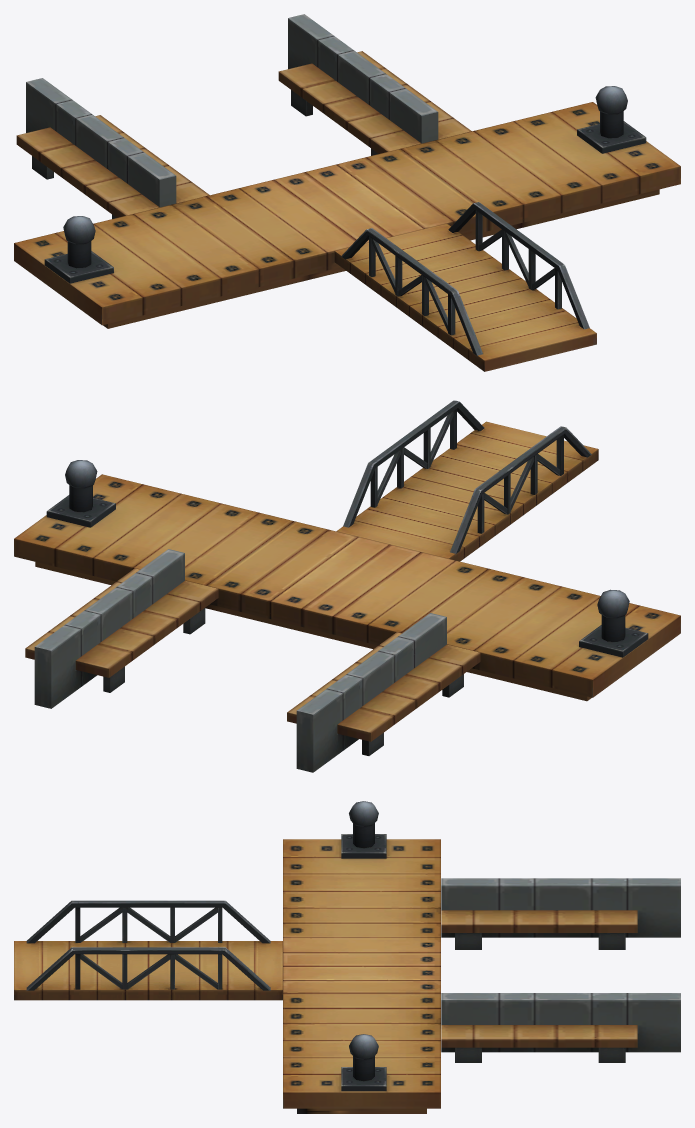
The model's file is furni_0201011.FBX.
The picture shows the model from 3 angles, top to bottom: view 1: azimuth 30°, elevation 25°; view 2: azimuth 150°, elevation 25°; view 3: azimuth 270°, elevation 25°; orthographic projection. The views are drawn at different scales.
Visible parts, largest first — view 1: furni_0201011; view 2: furni_0201011; view 3: furni_0201011.
Boxes of the visible parts, x1,y1,x2,y2 form: furni_0201011: (14, 14, 680, 371); furni_0201011: (14, 400, 680, 772); furni_0201011: (14, 801, 680, 1113).
Size of the model in its own units: 1281 by 174 by 1425.
Materials: 1 (1 with a texture image).
